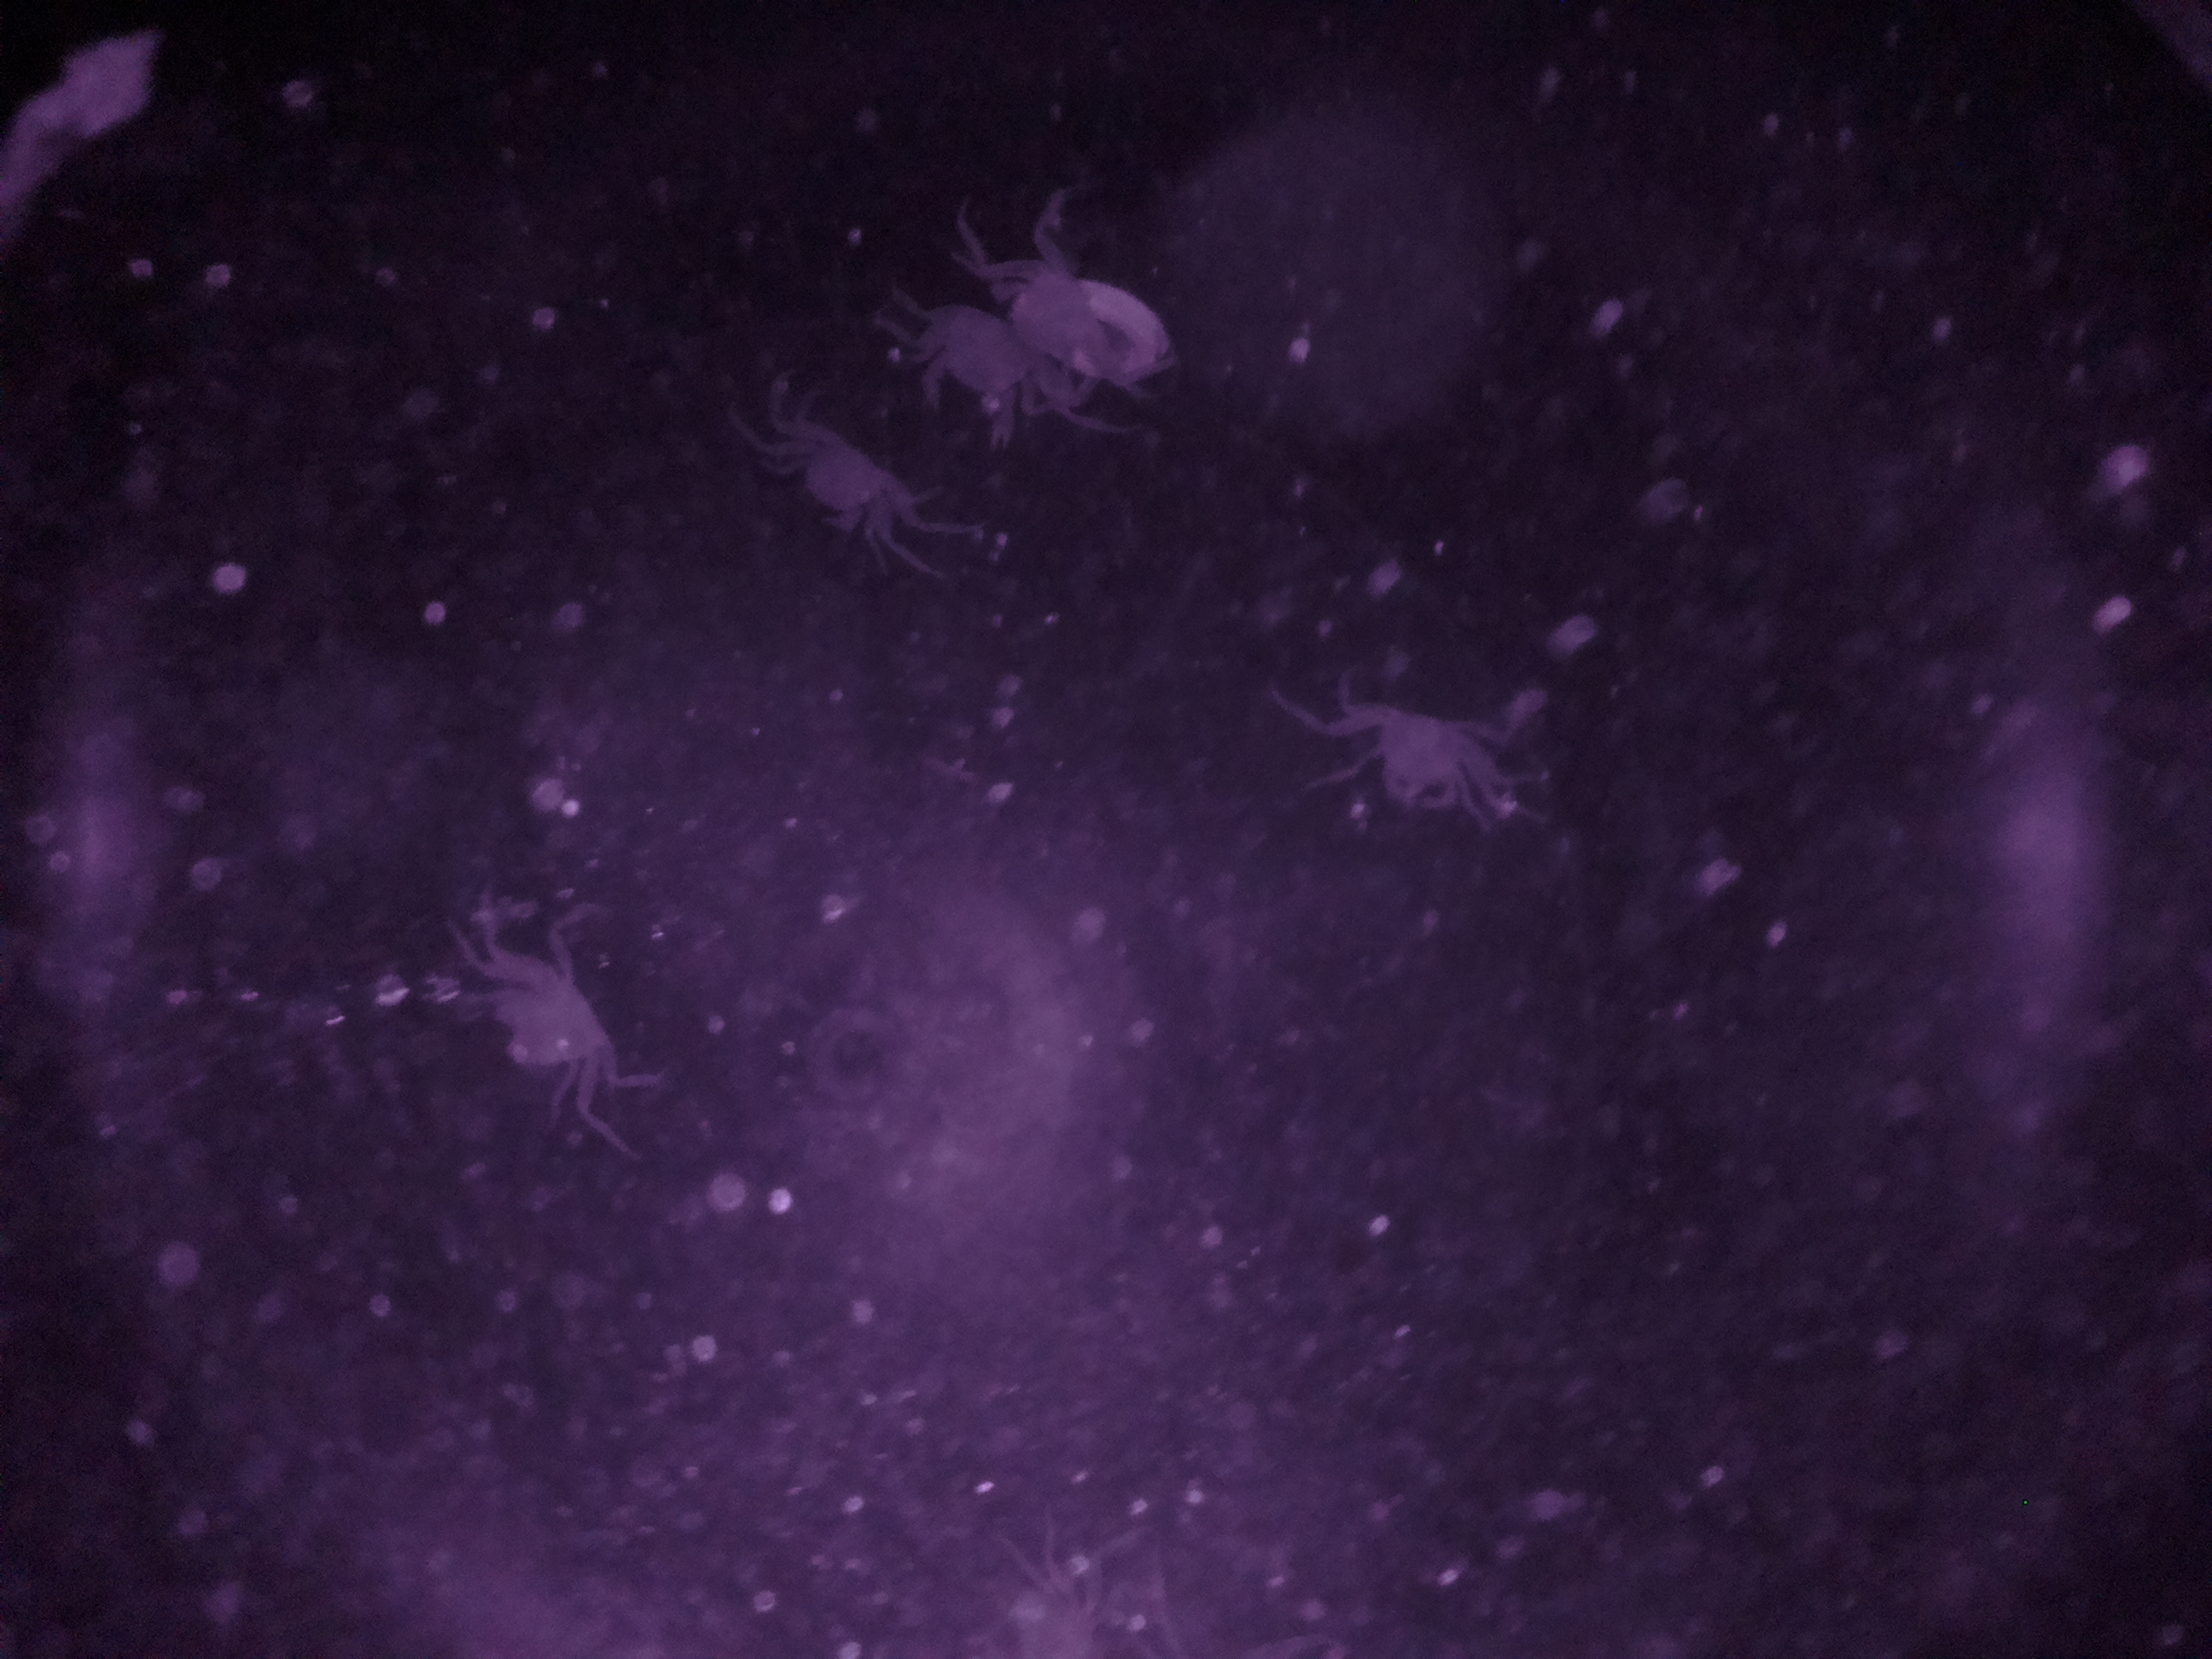Crab: (740, 380, 981, 573)
